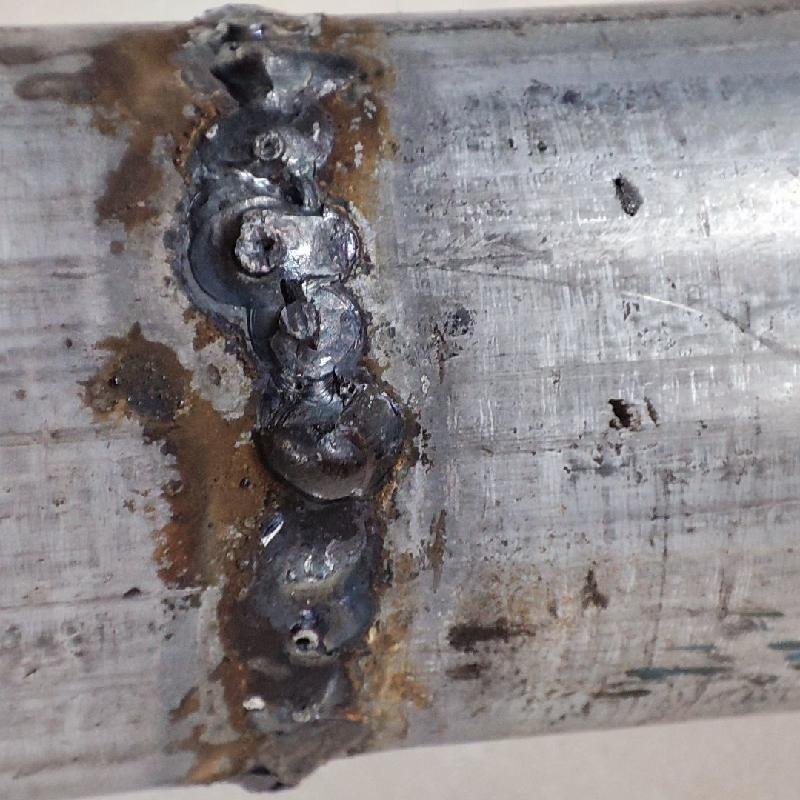Surface_pores: (163, 10, 389, 767), (247, 220, 290, 260), (289, 621, 328, 660), (218, 33, 256, 62), (255, 126, 279, 155)
Weld: (248, 420, 384, 502)
